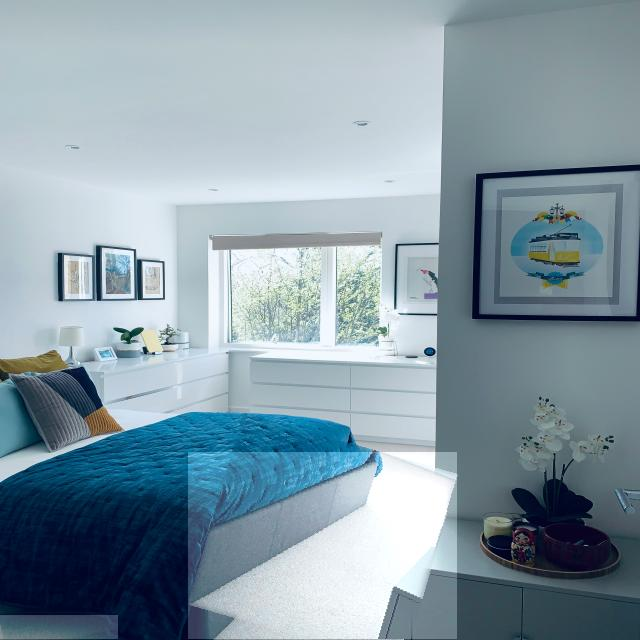floor: (189, 452, 457, 640), (0, 615, 118, 640)
